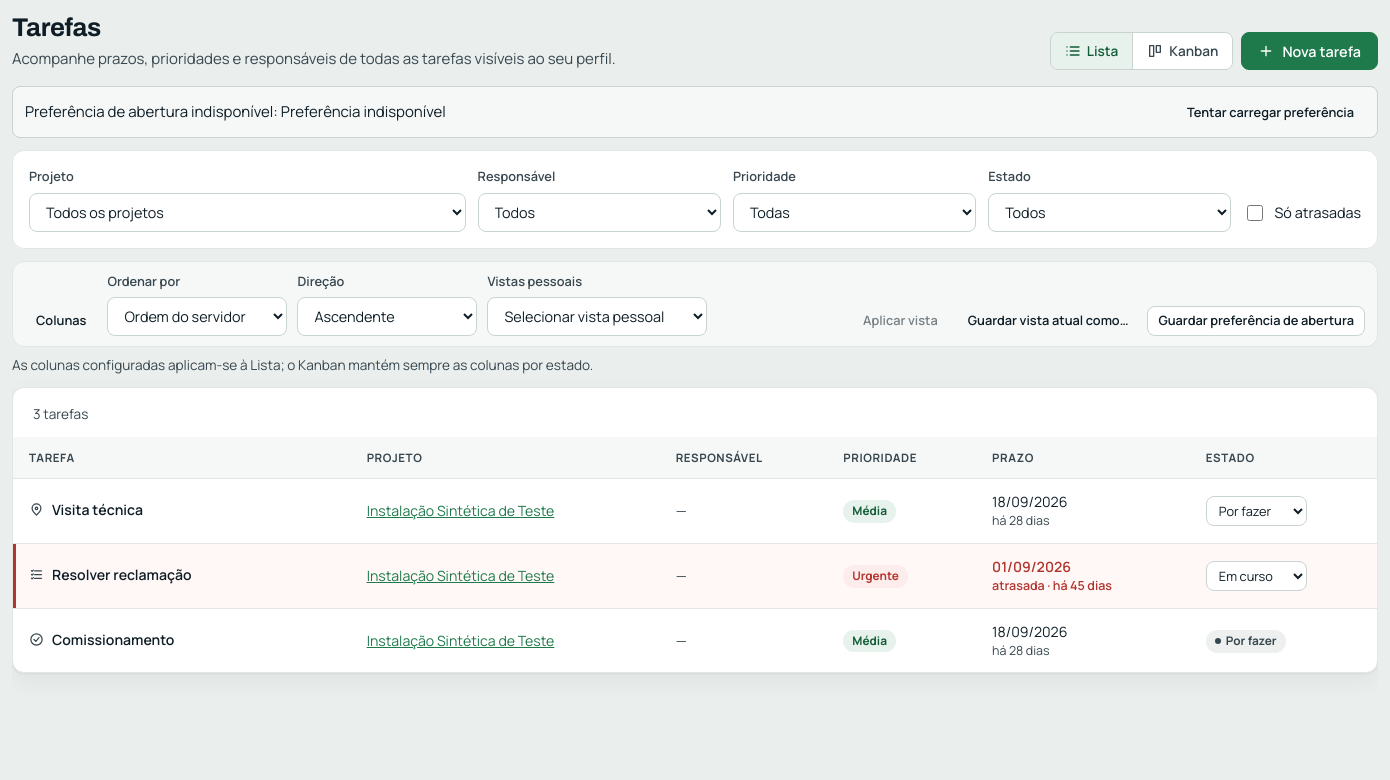
Scenario: Tasks › mostra erro de preferência sem falso sucesso e permite continuar com as tarefas
Expected: the text "Visita técnica" is shown, [29,499,143,520]
Expected: the text "Preferência de abertura indisponível: Preferência indisponível" is shown, [25,101,446,124]
Click the button "Guardar preferência de abertura" at (1256,321), box [1147,306,1365,336]
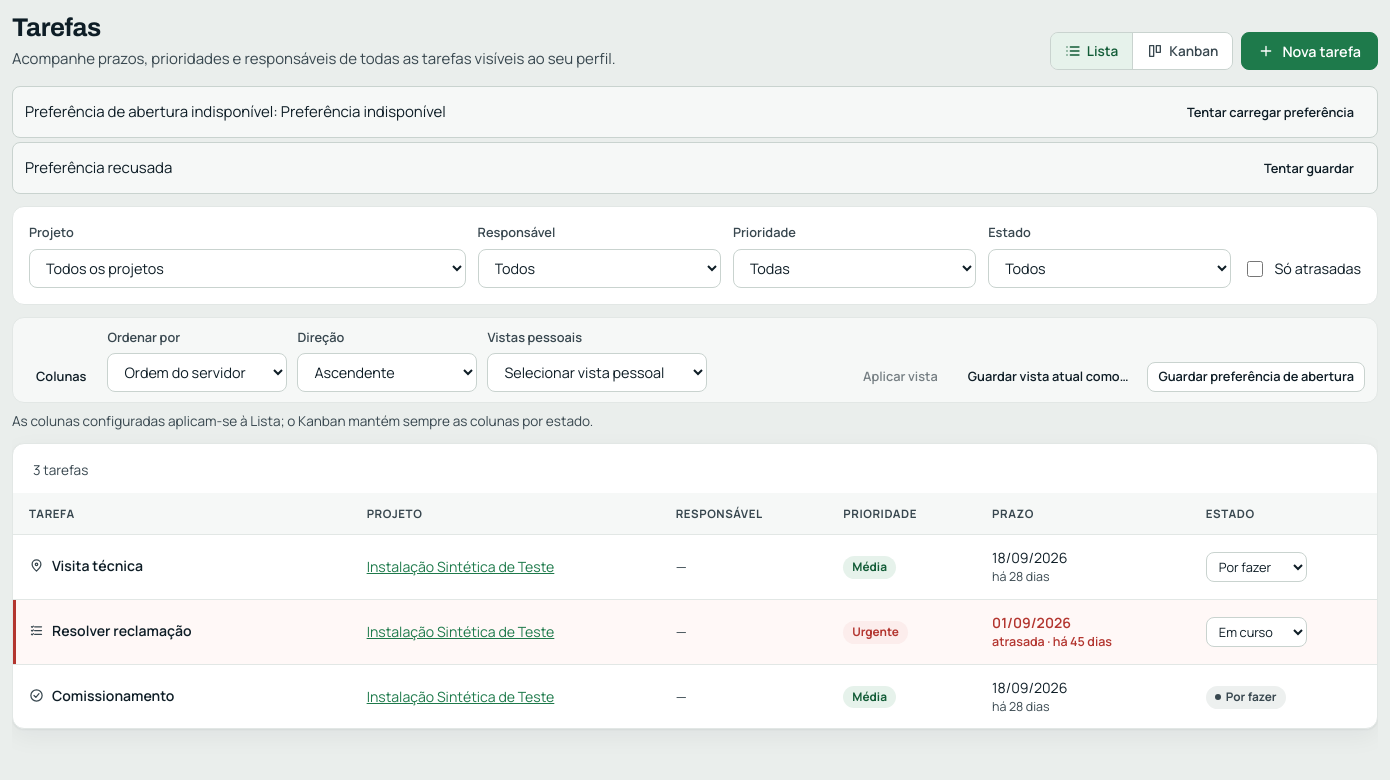
Result: the text "Preferência recusada" is shown at [25,157,172,180]
